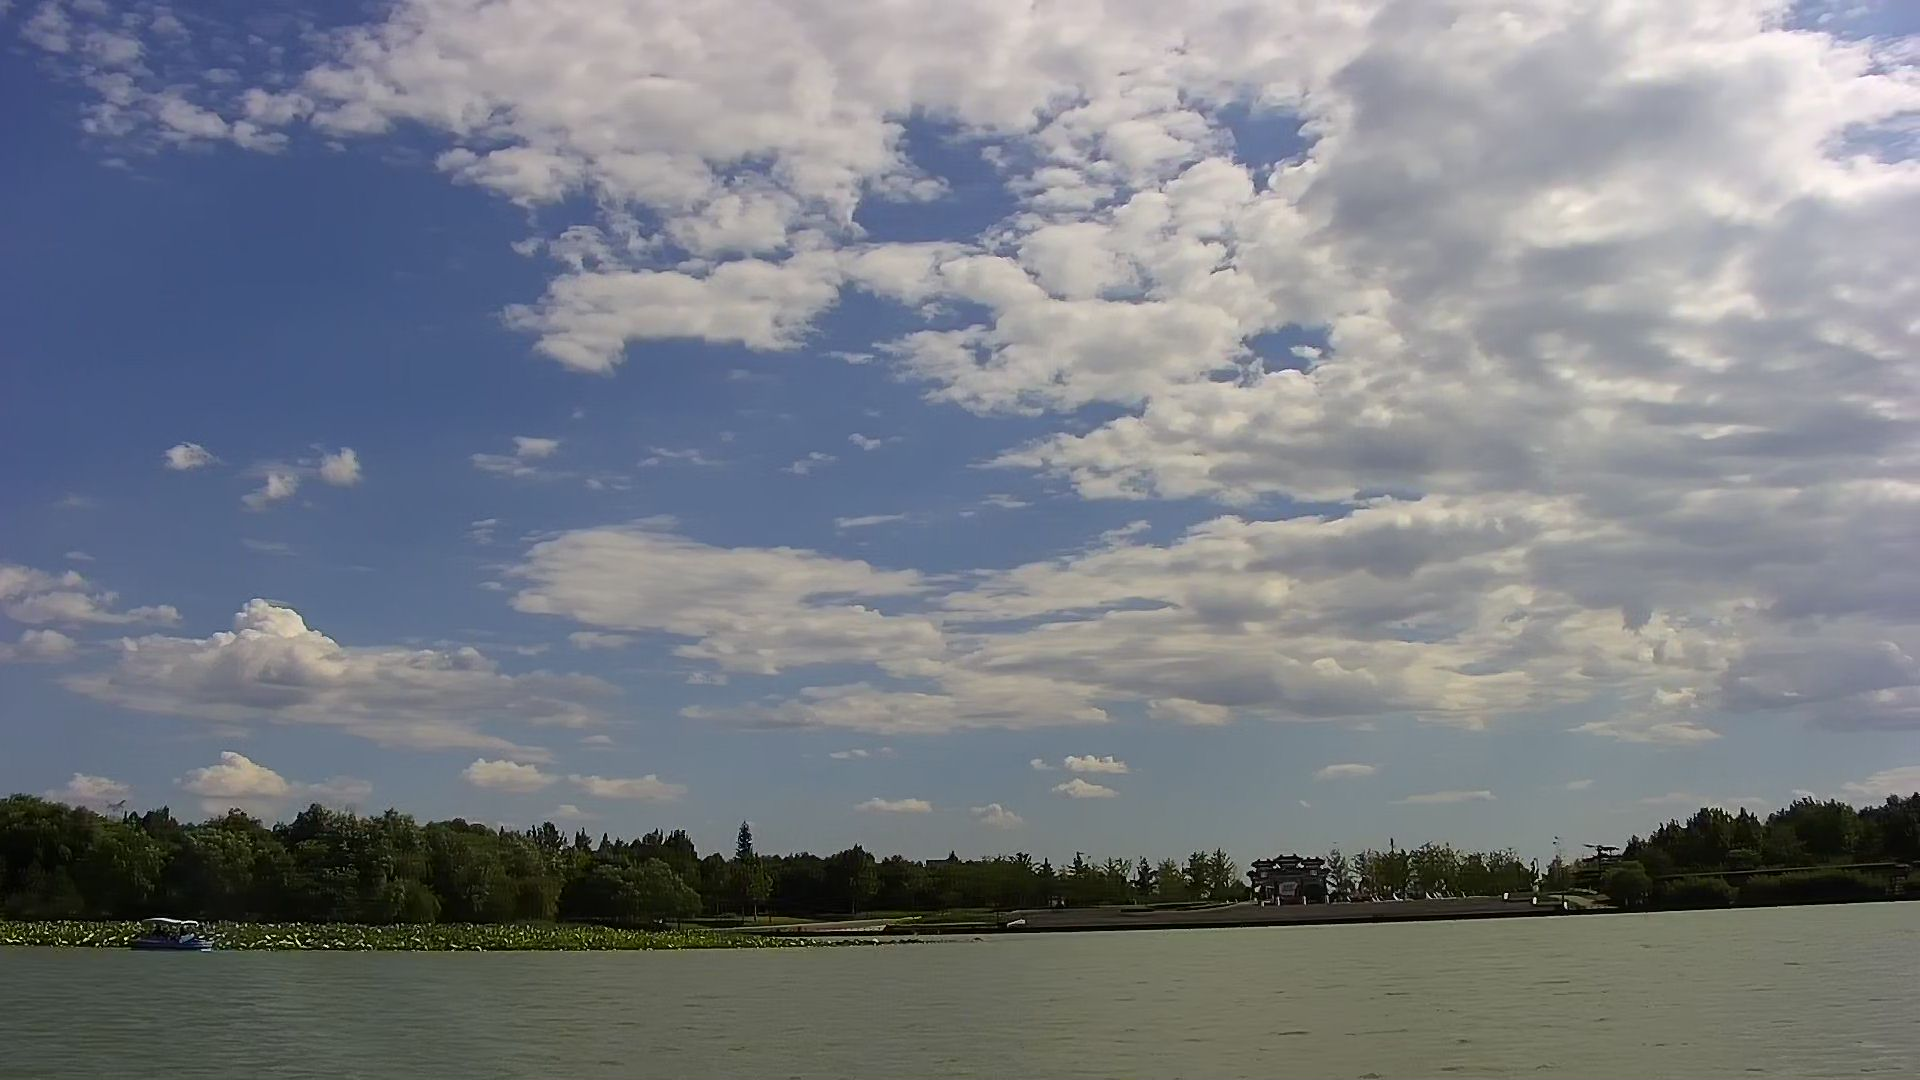boat: (123, 915, 219, 957)
harbor: (969, 880, 1611, 923)
